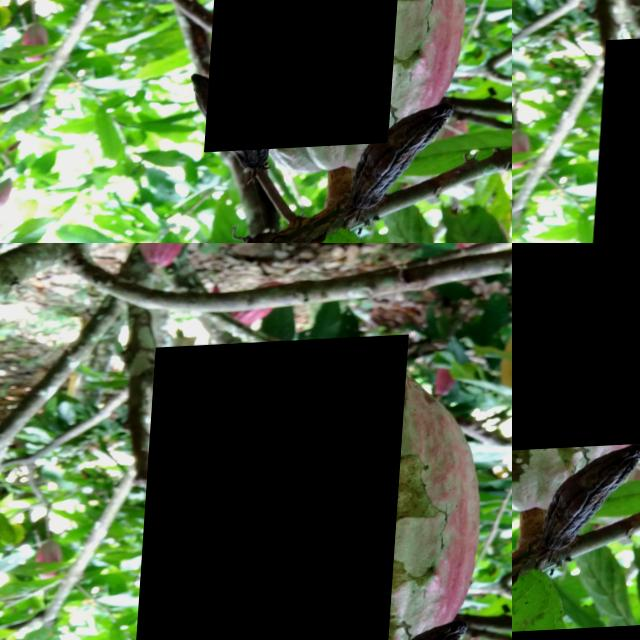Fitoftora: (512, 243, 640, 458), (538, 445, 640, 562), (598, 36, 640, 243)
Monilia: (137, 339, 411, 640), (211, 0, 411, 155)
